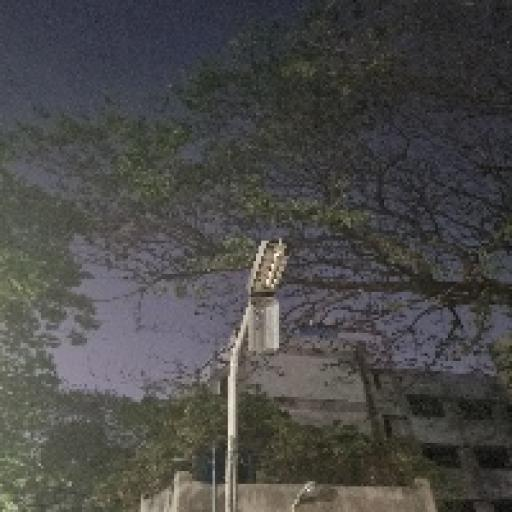Not Working: (224, 229, 306, 366), (287, 474, 325, 511)
